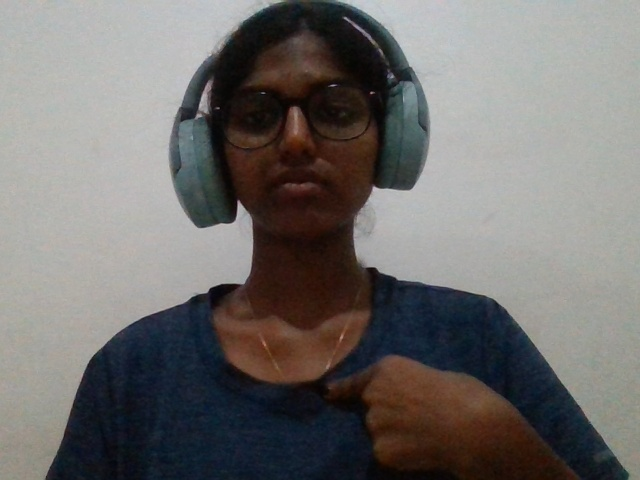Me: (280, 337, 640, 469)
